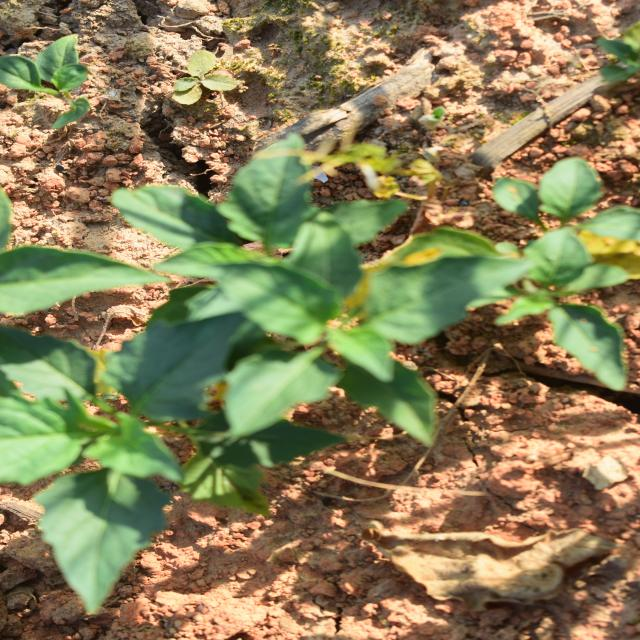Black_nightshade: (50, 0, 358, 280), (175, 164, 416, 496)
